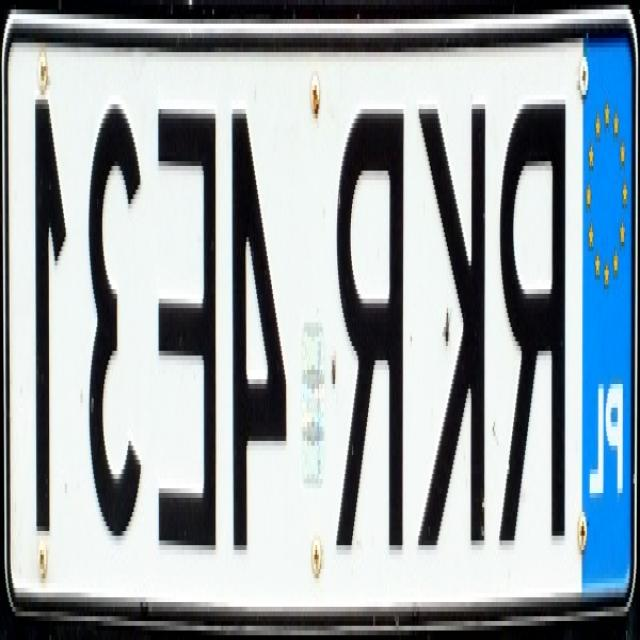pl_license_plate: (9, 38, 632, 593)
